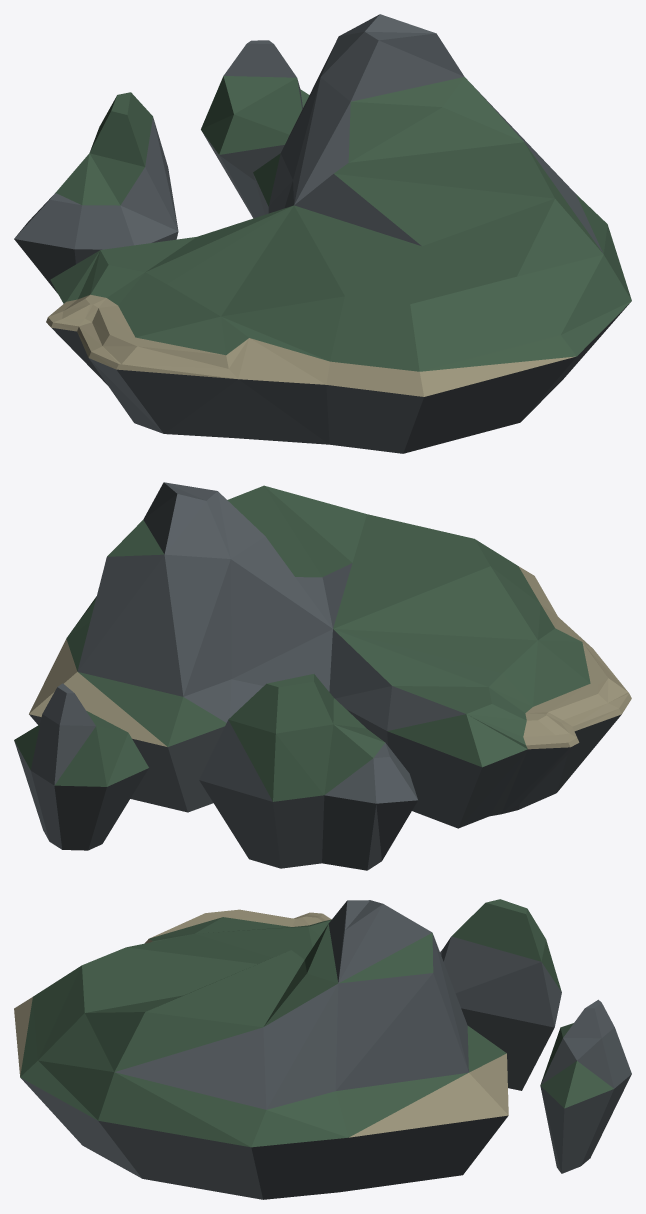
The model's file is island_1.fbx.
3 views of the same model, one above another, from view 1: azimuth 30°, elevation 25°; view 2: azimuth 150°, elevation 25°; view 3: azimuth 270°, elevation 25° (orthographic). The views are drawn at different scales.
Visible parts, largest first — view 1: polySurface4; view 2: polySurface4; view 3: polySurface4.
Boxes of the visible parts, x1,y1,x2,y2 form: polySurface4: (14, 14, 631, 453); polySurface4: (14, 482, 631, 870); polySurface4: (14, 899, 631, 1199).
Bounding box in the file's own units: 22.85 × 11.61 × 25.68.
